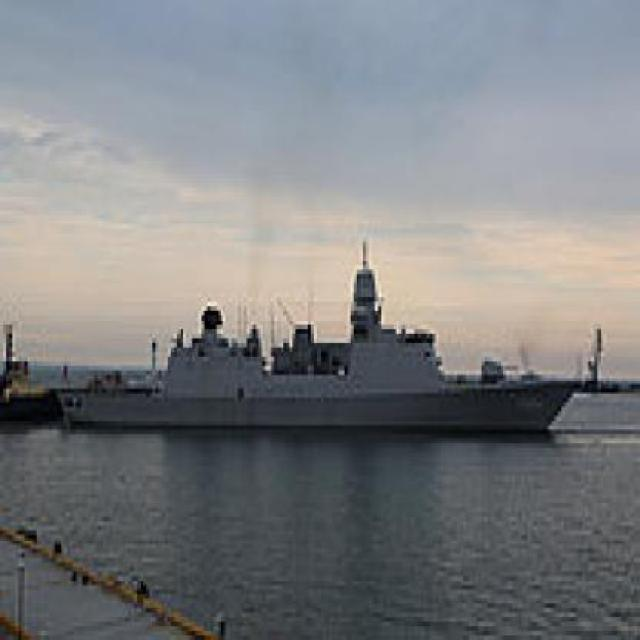warship2: (62, 226, 580, 444)
